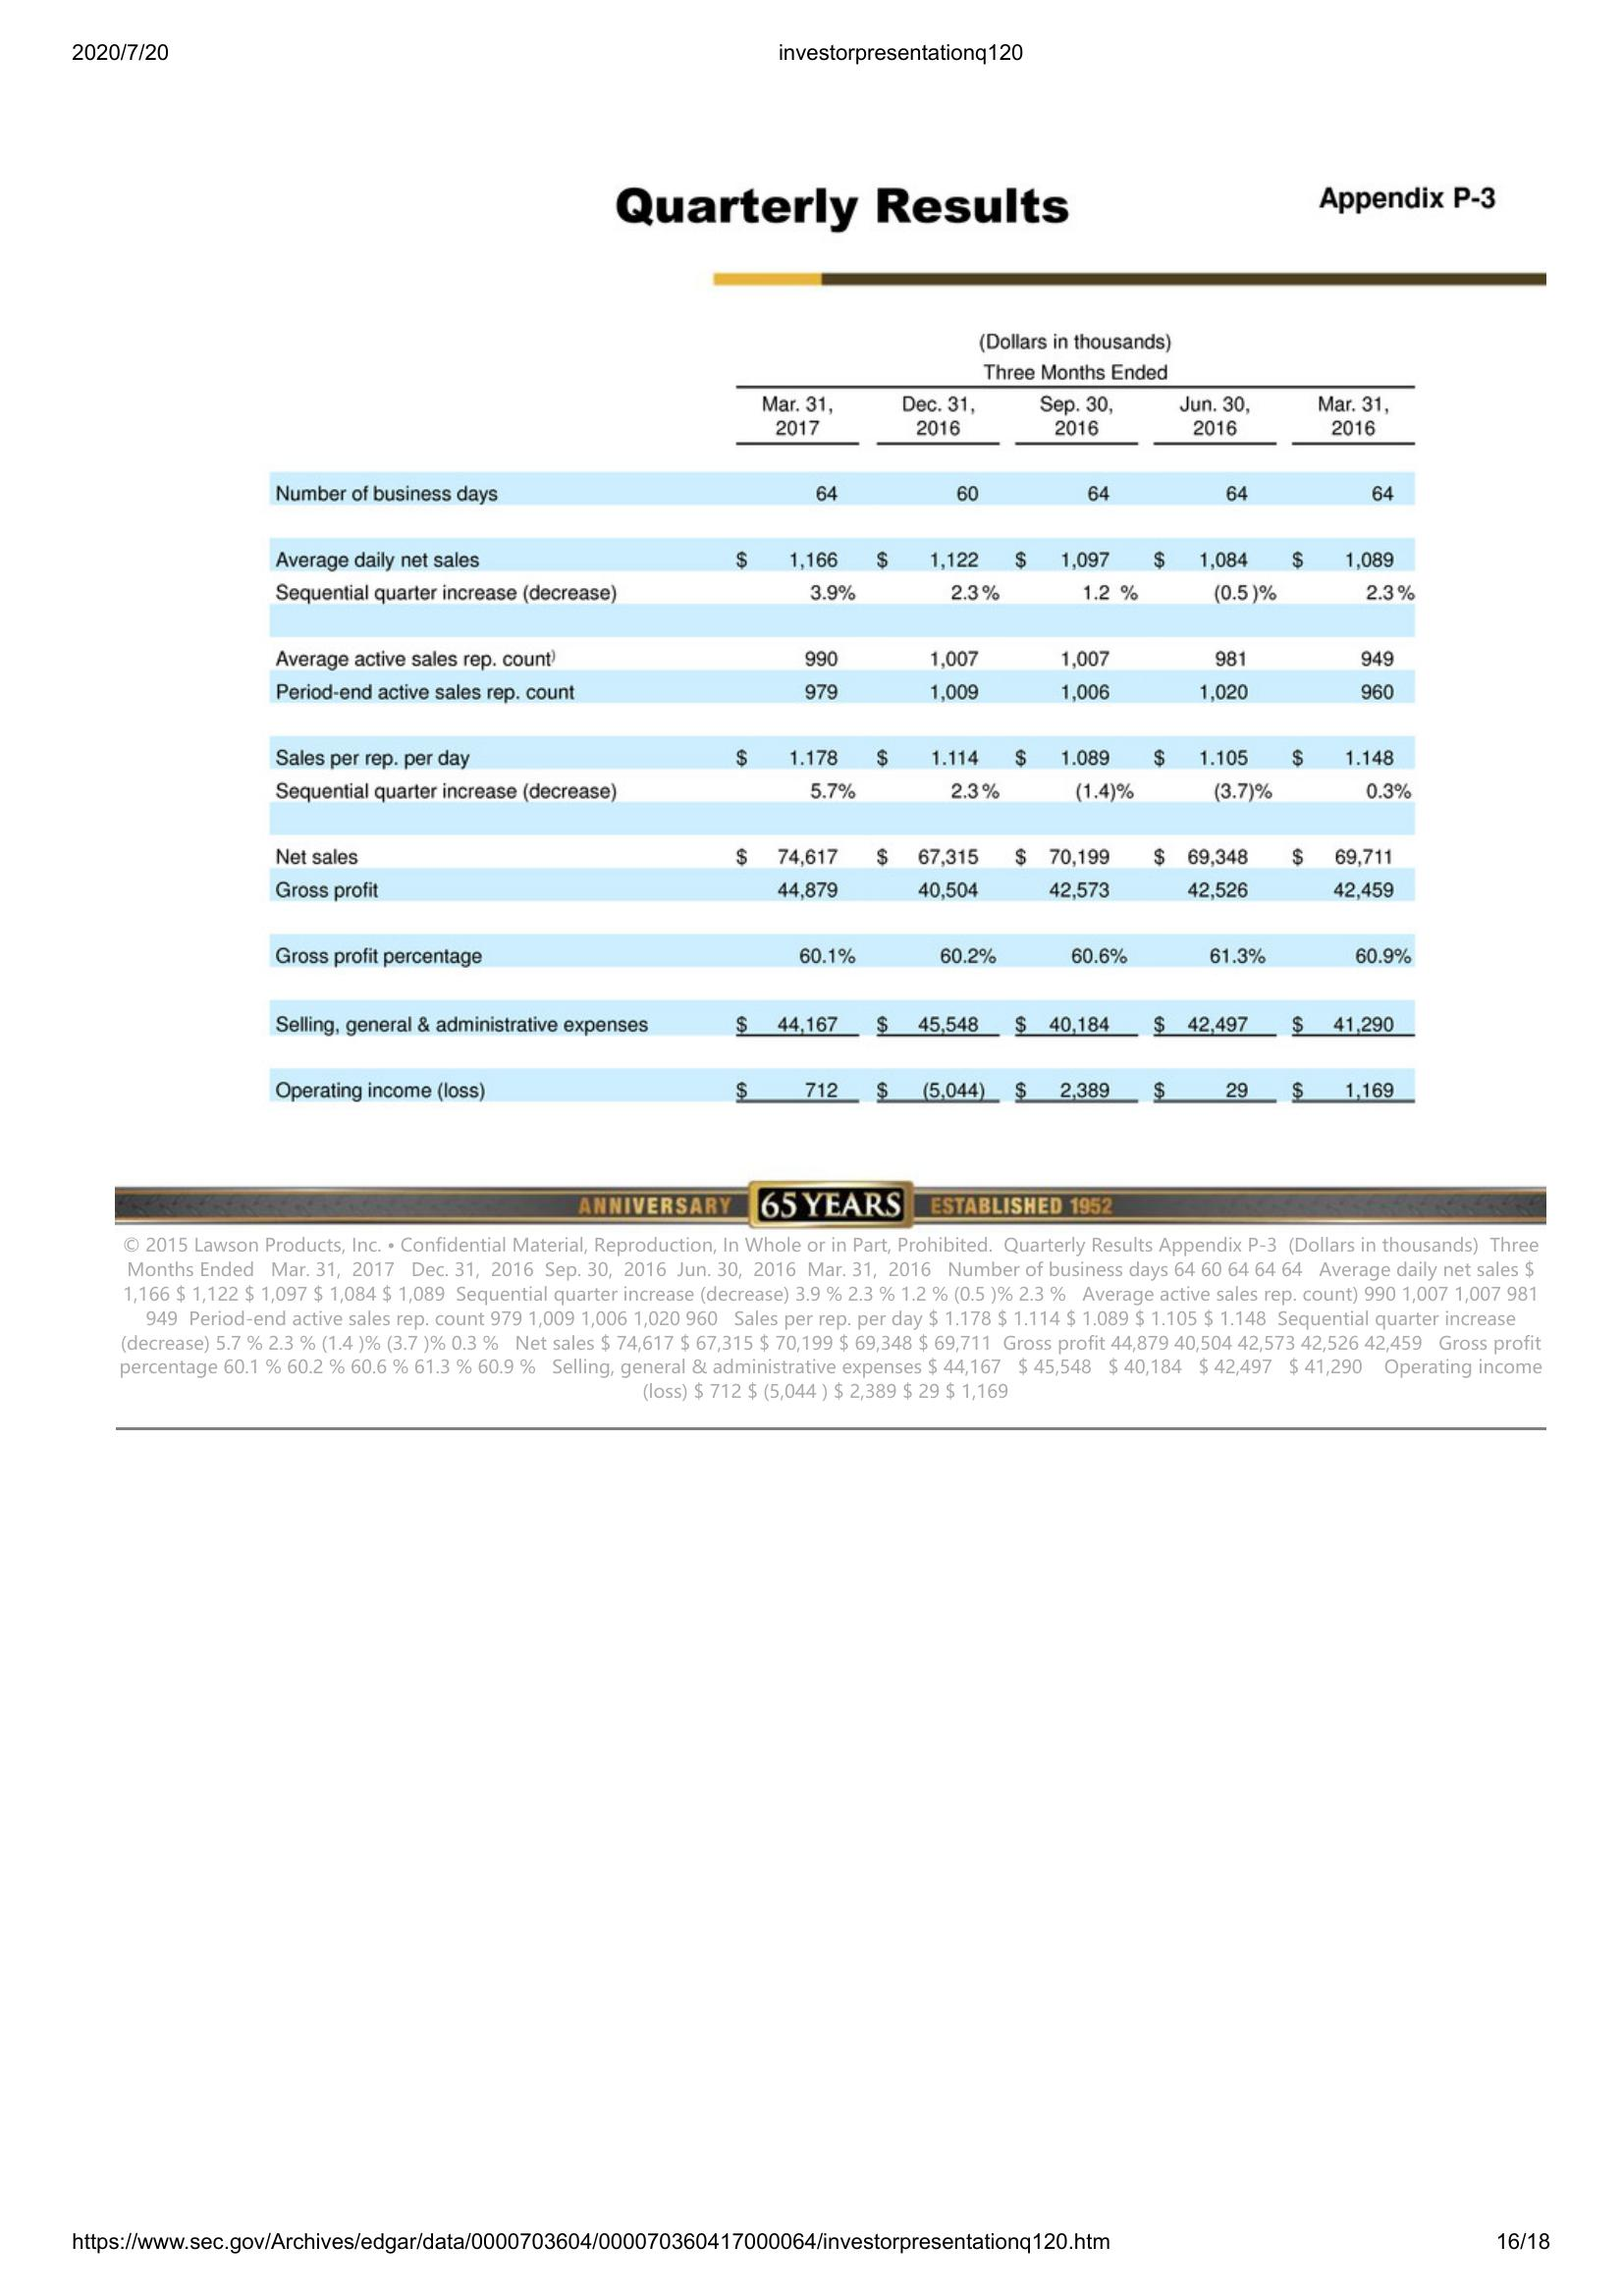table: (267, 330, 1421, 1108)
